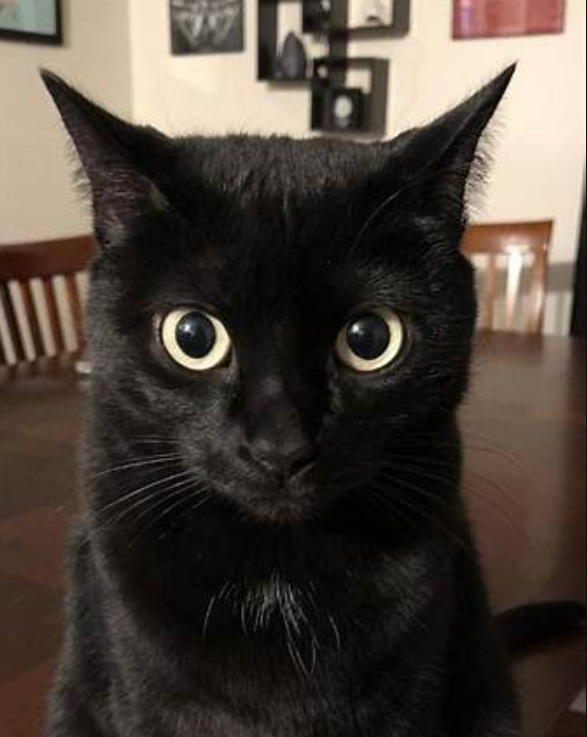gato: (0, 25, 573, 737)
